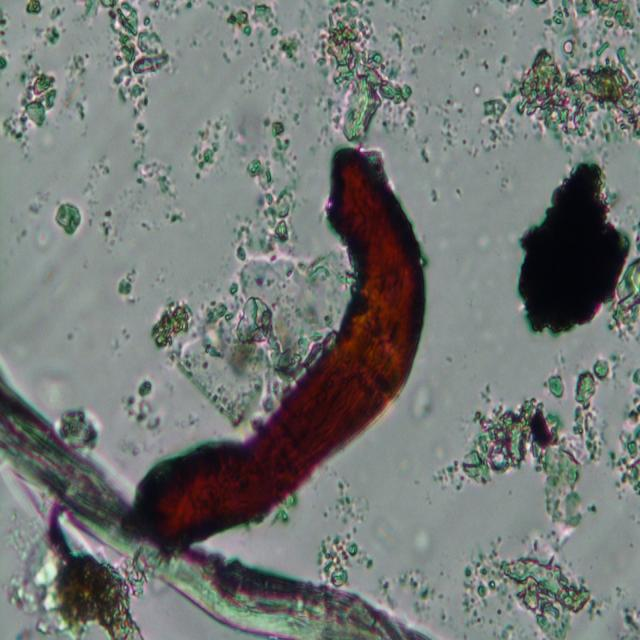Background material: (155, 248, 340, 388), (435, 391, 601, 536), (512, 158, 630, 336), (483, 44, 640, 139), (13, 524, 143, 637), (318, 3, 418, 140), (459, 550, 599, 636), (97, 0, 171, 145), (248, 112, 302, 249), (424, 77, 477, 160), (132, 156, 182, 224), (531, 2, 640, 32), (15, 57, 59, 126), (316, 532, 373, 584), (619, 363, 640, 501), (597, 572, 639, 639), (13, 189, 57, 252), (607, 251, 640, 333), (325, 474, 369, 530), (188, 117, 226, 180), (126, 374, 162, 436), (55, 52, 87, 120), (224, 1, 280, 38), (58, 404, 100, 452), (239, 39, 277, 89), (426, 567, 456, 626), (573, 358, 609, 407), (72, 149, 106, 197), (4, 102, 34, 152), (404, 378, 436, 422), (274, 32, 306, 66), (55, 198, 83, 234), (108, 321, 134, 356), (101, 206, 121, 245), (117, 266, 140, 299), (413, 129, 431, 167), (70, 1, 96, 26), (46, 7, 62, 46), (0, 9, 8, 74), (547, 372, 565, 399), (454, 47, 470, 76), (496, 48, 508, 80), (220, 47, 238, 66), (469, 82, 487, 100), (25, 1, 45, 14), (428, 186, 440, 205), (478, 54, 490, 71), (588, 500, 600, 516)
Cellulose filter fibre: (0, 377, 432, 638)
Natural material: (144, 142, 427, 541)
